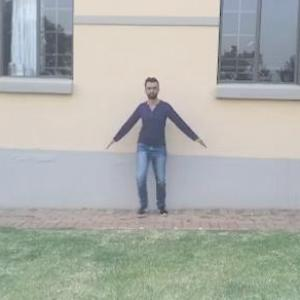land: (106, 79, 203, 228)
